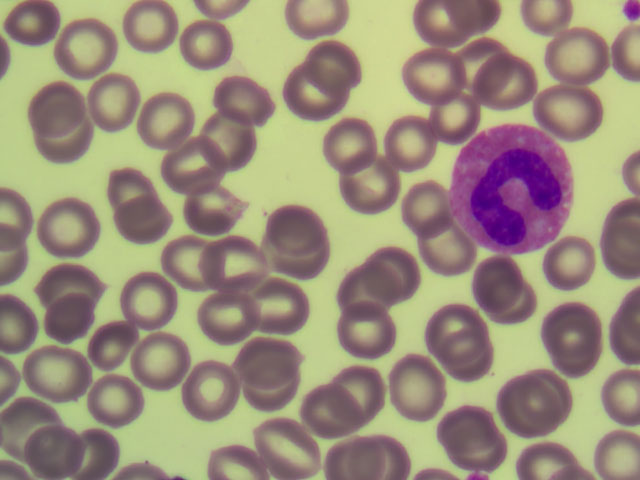Platelets: (621, 1, 640, 19)
RBC: (33, 426, 89, 480), (78, 426, 134, 480), (584, 426, 640, 480), (58, 22, 114, 75), (121, 1, 177, 54), (170, 19, 226, 72), (209, 68, 265, 121), (203, 108, 259, 161), (179, 134, 235, 187), (134, 92, 190, 145), (87, 74, 143, 127), (28, 82, 84, 135), (36, 121, 92, 174), (37, 197, 93, 250), (40, 257, 96, 310), (37, 308, 93, 361), (24, 347, 80, 400), (82, 372, 138, 425), (85, 313, 141, 366), (121, 283, 177, 336), (133, 341, 189, 394), (156, 233, 212, 286), (207, 244, 263, 297), (113, 196, 169, 249), (105, 170, 161, 223), (180, 183, 236, 236), (262, 190, 318, 243), (279, 230, 335, 283), (259, 282, 315, 335), (198, 292, 254, 345), (241, 329, 297, 382), (248, 365, 304, 418), (182, 362, 238, 415), (256, 424, 312, 477), (291, 389, 347, 442), (326, 363, 382, 416), (332, 297, 388, 350), (337, 263, 393, 316), (360, 246, 416, 299), (411, 228, 467, 281), (399, 181, 455, 234), (348, 158, 404, 211), (386, 118, 442, 171), (317, 117, 373, 170), (290, 72, 346, 125), (305, 44, 361, 97), (404, 44, 460, 97), (442, 32, 498, 85), (488, 51, 544, 104), (441, 83, 497, 136), (556, 82, 612, 135), (551, 31, 607, 84), (407, 2, 463, 55), (546, 233, 602, 286), (468, 249, 524, 302), (488, 274, 544, 327), (426, 303, 482, 356), (440, 333, 496, 386), (391, 360, 447, 413), (429, 393, 485, 446), (463, 412, 519, 465), (501, 380, 557, 433), (516, 366, 572, 419), (544, 331, 600, 384), (542, 298, 598, 351), (1, 396, 56, 449), (5, 1, 61, 53)
WBC: (447, 125, 581, 247)
